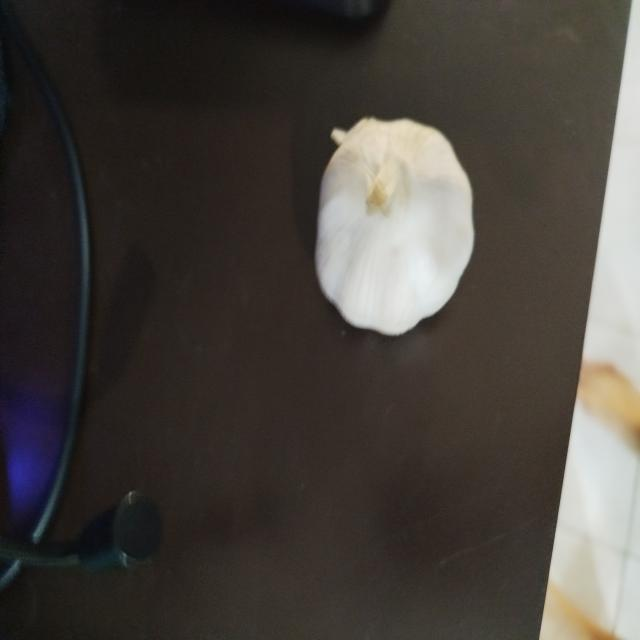garlic: (314, 115, 475, 337)
